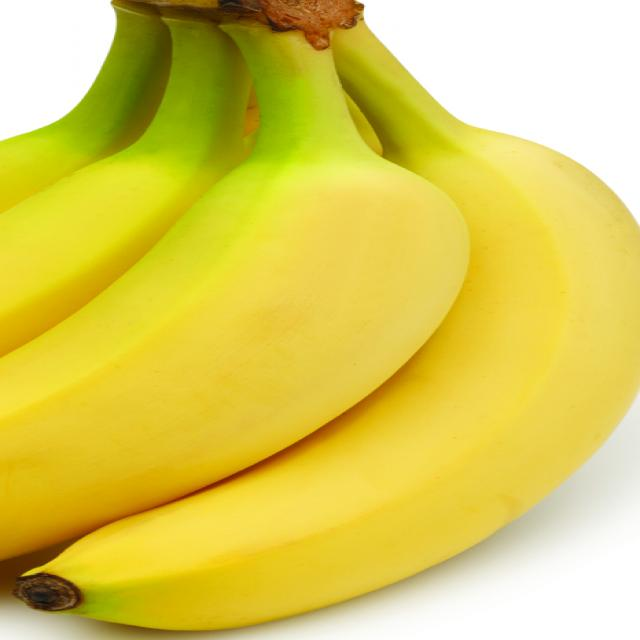Pineapple: (1, 0, 639, 640)
